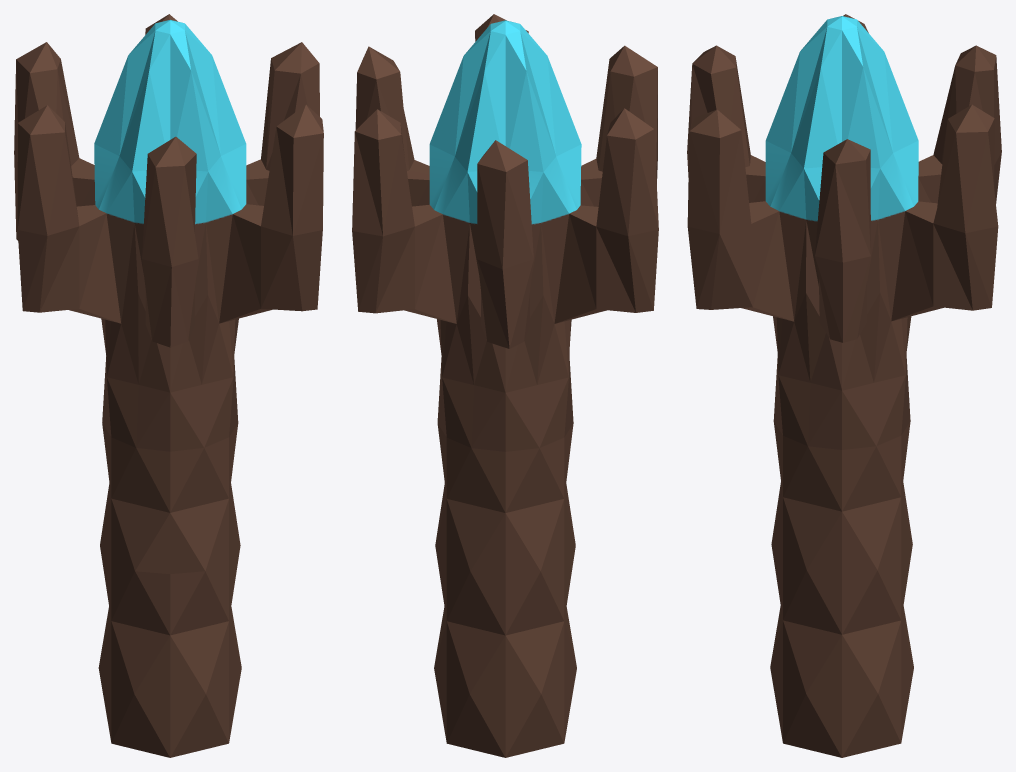
Rendered from Torch_crystal.fbx.
The picture shows the model from 3 angles, left to right: view 1: azimuth 30°, elevation 25°; view 2: azimuth 150°, elevation 25°; view 3: azimuth 270°, elevation 25°; orthographic projection.
Visible parts, largest first — view 1: pCylinder1; view 2: pCylinder1; view 3: pCylinder1.
Part boxes in pixels (bbox=[...]): pCylinder1: bbox=[14, 14, 323, 757]; pCylinder1: bbox=[352, 14, 658, 757]; pCylinder1: bbox=[687, 14, 1001, 757].
Bounding box in the file's own units: 37.09 × 82.84 × 33.17.
Materials: 1 (1 with a texture image).
